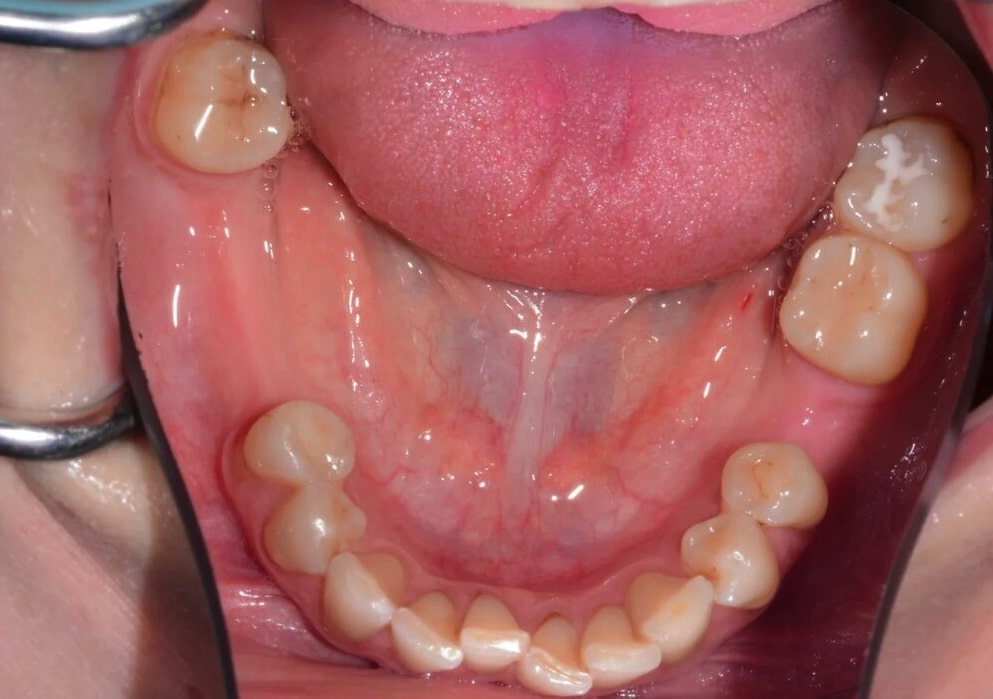LL1BC_healthy: (679, 514, 780, 613)
LL2BC_decay: (719, 445, 828, 529)
LL2M_healthy: (771, 239, 930, 388)
LL3M_healthy: (828, 111, 973, 255)
LLCI_healthy: (529, 612, 590, 698)
LLC_healthy: (624, 576, 712, 664)
LLLI_healthy: (579, 605, 663, 686)
LR1BC_healthy: (263, 483, 368, 575)
LR2BC_healthy: (245, 402, 355, 486)
LR3M_decay: (159, 32, 293, 181)
LRCI_healthy: (460, 594, 527, 670)
LRC_healthy: (322, 548, 401, 642)
LRLI_healthy: (393, 580, 458, 679)
